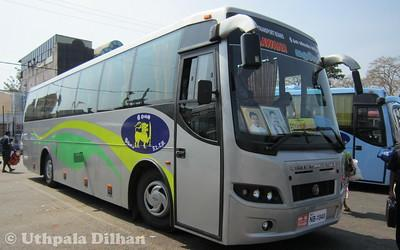bus: (18, 6, 346, 248), (273, 81, 400, 192)
